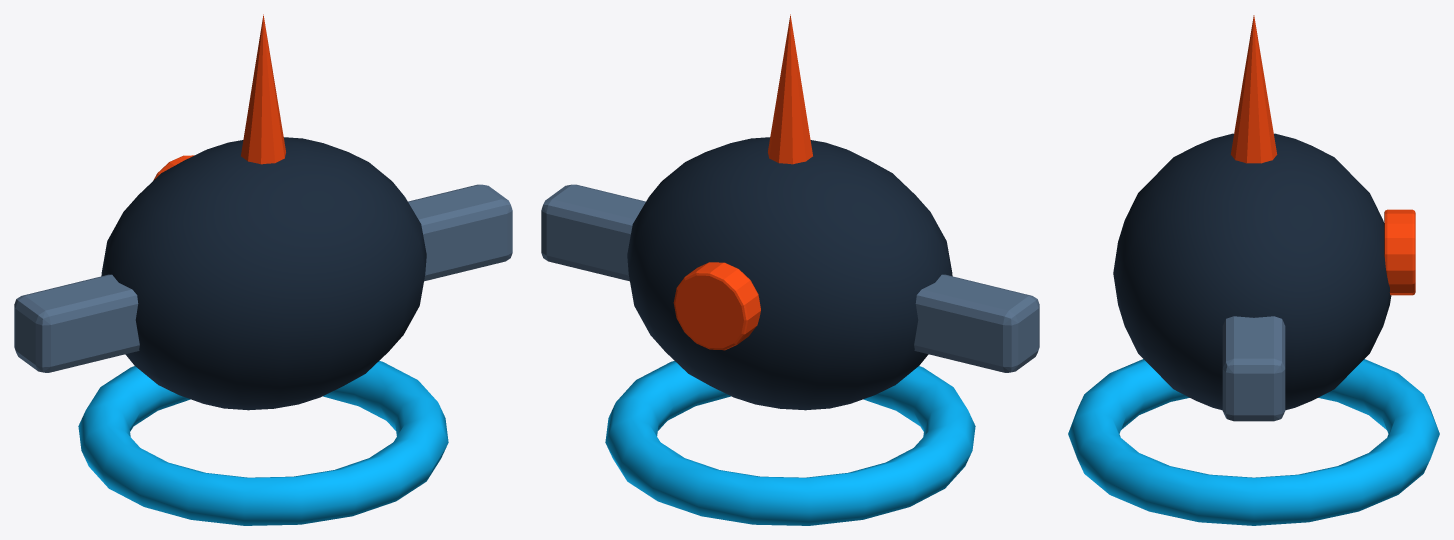
Rendered from training_bot.obj.
The picture shows the model from 3 angles, left to right: view 1: azimuth 30°, elevation 25°; view 2: azimuth 150°, elevation 25°; view 3: azimuth 270°, elevation 25°; orthographic projection.
Parts seen in each view (by area): view 1: bot_body_M_gunmetal, bot_hover_ring_M_cyan, bot_arm_r_M_steel, bot_arm_l_M_steel, bot_antenna_M_orange; view 2: bot_body_M_gunmetal, bot_hover_ring_M_cyan, bot_arm_r_M_steel, bot_arm_l_M_steel, bot_eye_M_orange, bot_antenna_M_orange; view 3: bot_body_M_gunmetal, bot_hover_ring_M_cyan, bot_arm_l_M_steel, bot_antenna_M_orange, bot_eye_M_orange.
Part boxes in pixels (x1,y1,x2,y2): bot_body_M_gunmetal: (101, 137, 426, 410); bot_hover_ring_M_cyan: (78, 361, 448, 525); bot_arm_r_M_steel: (14, 274, 139, 372); bot_arm_l_M_steel: (408, 184, 512, 281); bot_antenna_M_orange: (241, 14, 285, 164); bot_body_M_gunmetal: (627, 137, 952, 410); bot_hover_ring_M_cyan: (605, 361, 975, 525); bot_arm_r_M_steel: (914, 274, 1039, 372); bot_arm_l_M_steel: (541, 184, 645, 281); bot_eye_M_orange: (673, 262, 760, 350); bot_antenna_M_orange: (768, 14, 812, 164); bot_body_M_gunmetal: (1113, 133, 1391, 410); bot_hover_ring_M_cyan: (1068, 359, 1439, 525); bot_arm_l_M_steel: (1222, 316, 1285, 421); bot_antenna_M_orange: (1230, 15, 1277, 163); bot_eye_M_orange: (1384, 209, 1415, 295).
Bounding box in the file's own units: 0.96 × 0.855 × 0.65.
